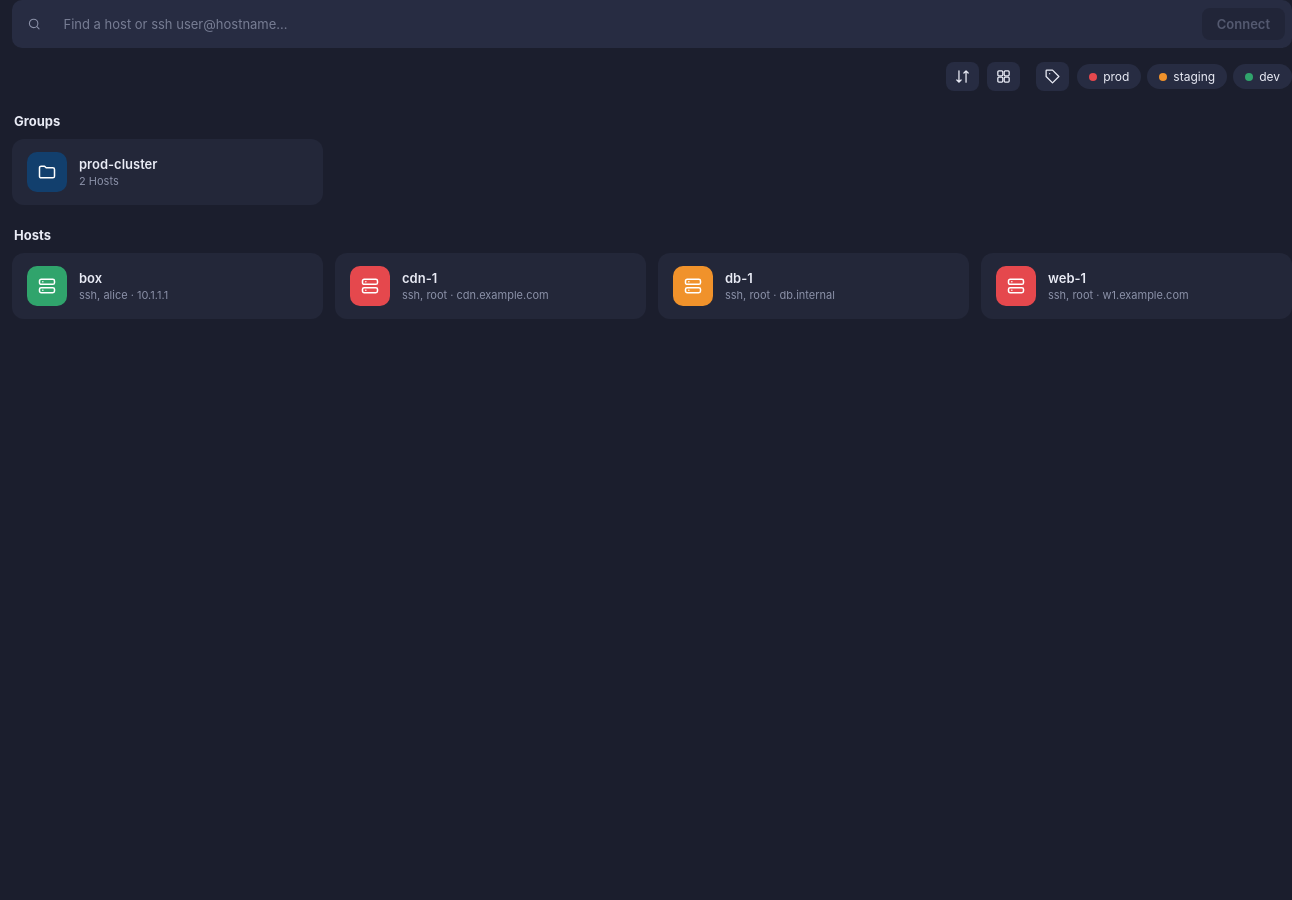
Test case: HostList: Grid / List view › Esc and a click elsewhere close the menu
Click the button named "View" at (1004, 76), box [987, 62, 1020, 91]
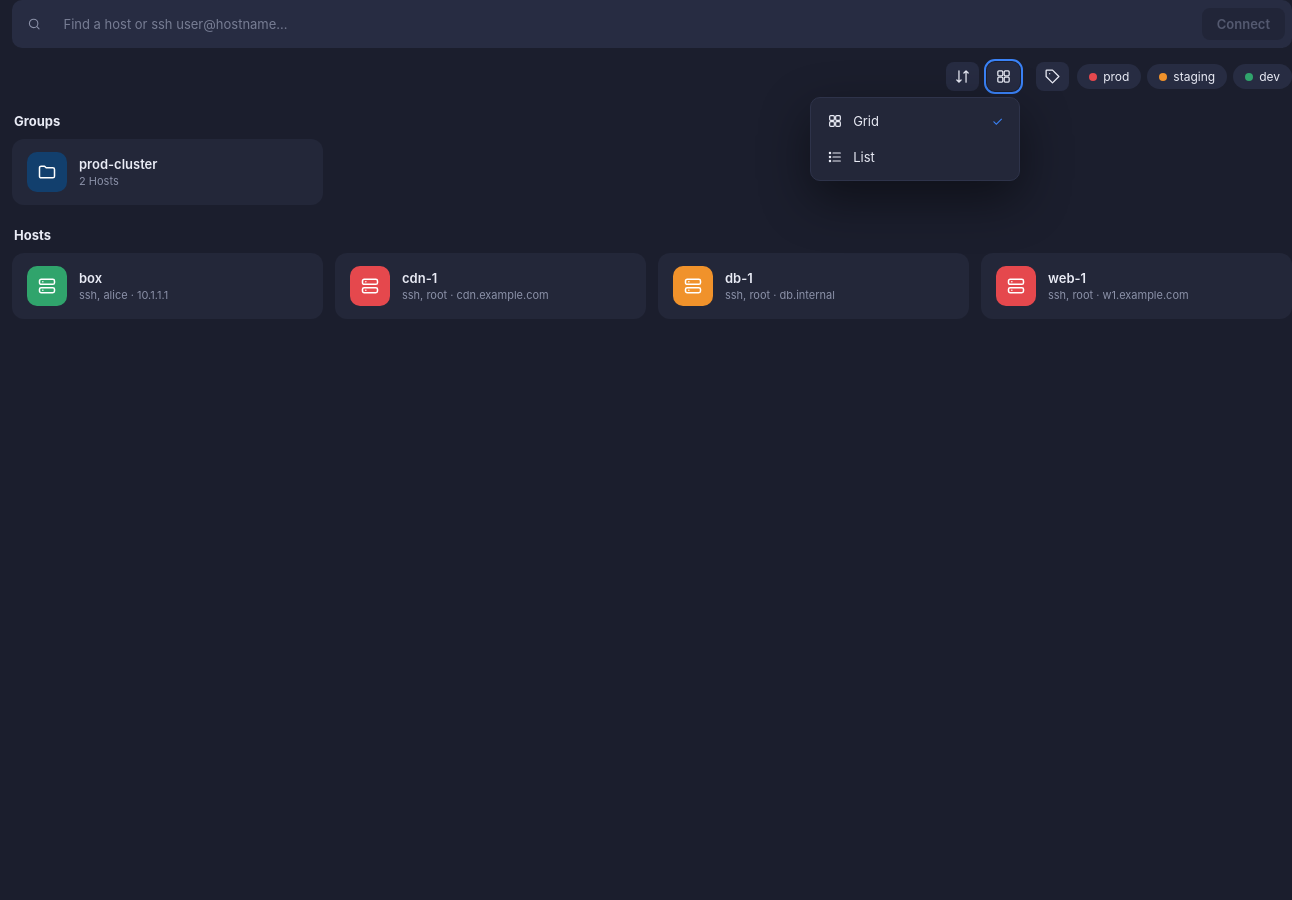
Press Escape
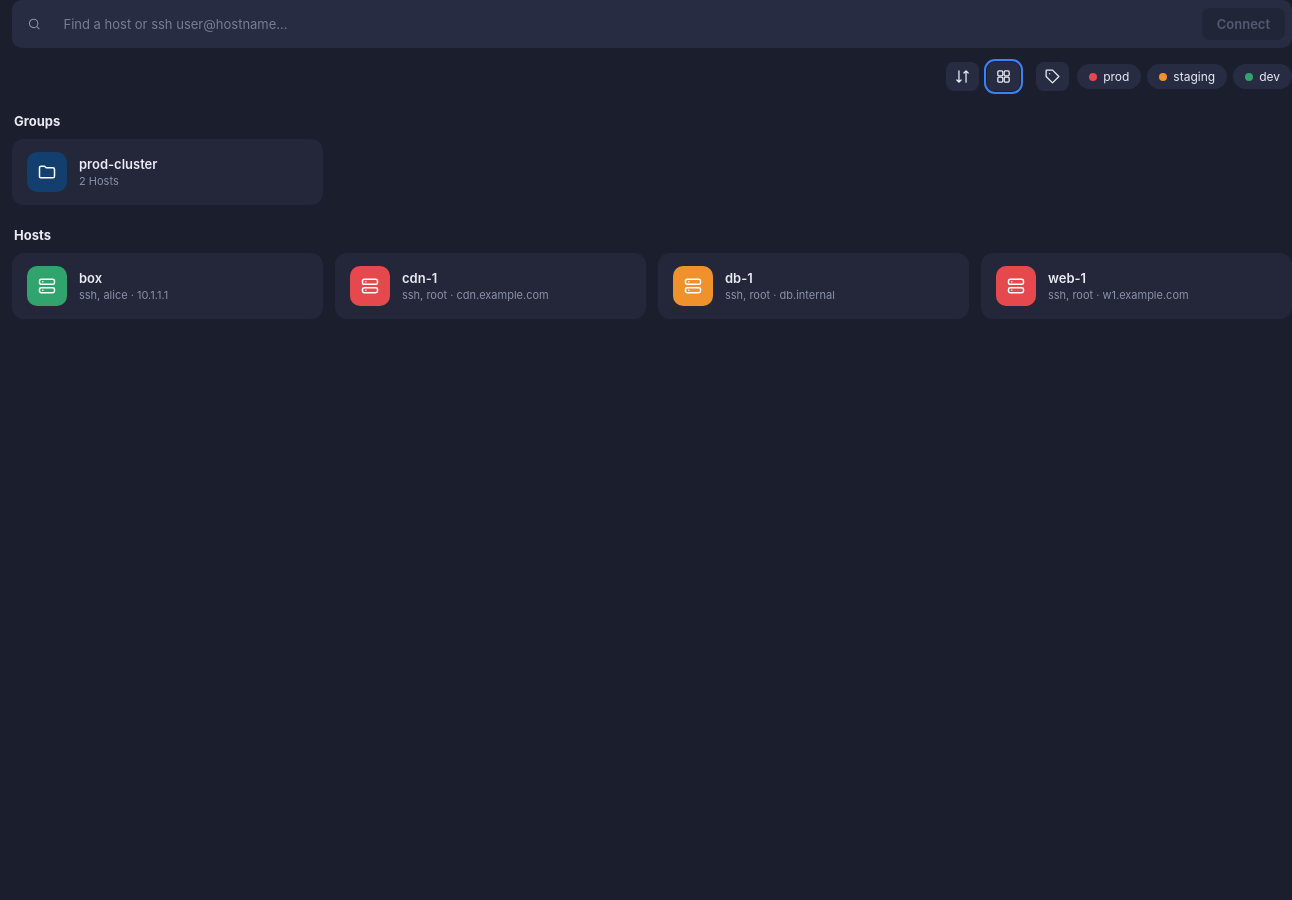
Expected: the menu is gone
Click the button named "View" at (1004, 76), box [987, 62, 1020, 91]
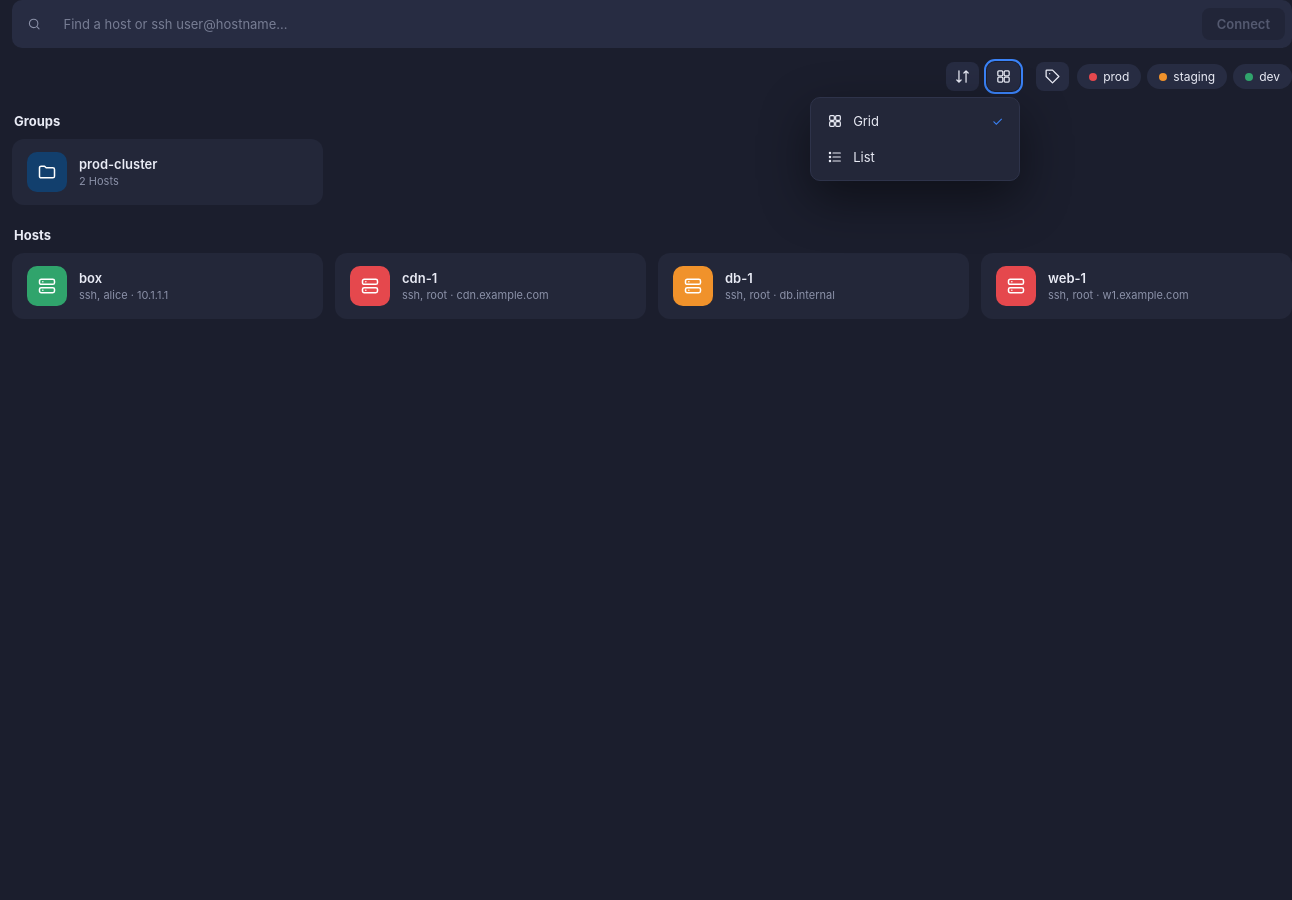
Click the element that starts with "Connect" at (652, 450), box [12, 0, 1291, 899]
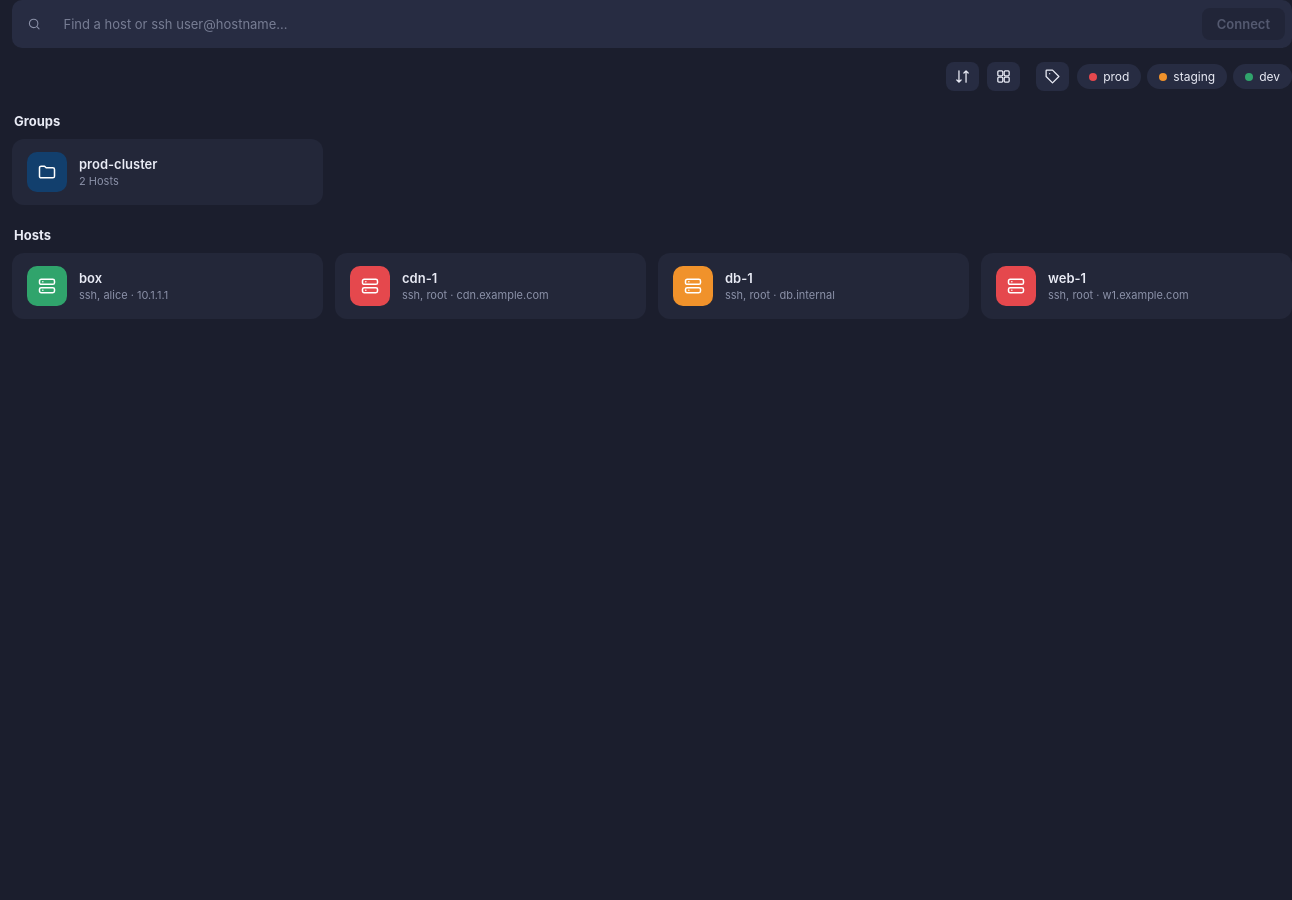
Expected: the menu is gone
